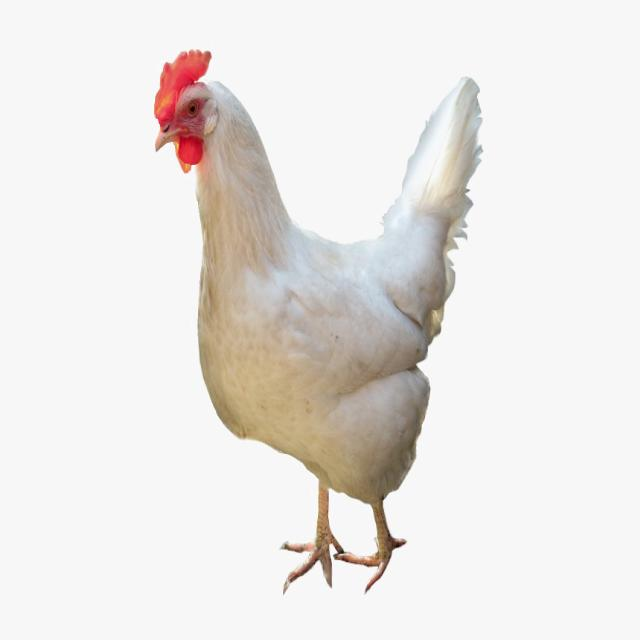Healthy: (154, 50, 482, 594)
